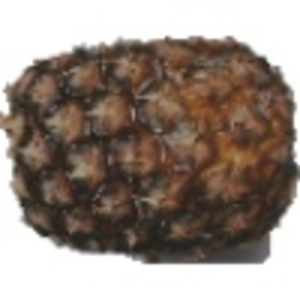abacaxi: (3, 28, 295, 255)
